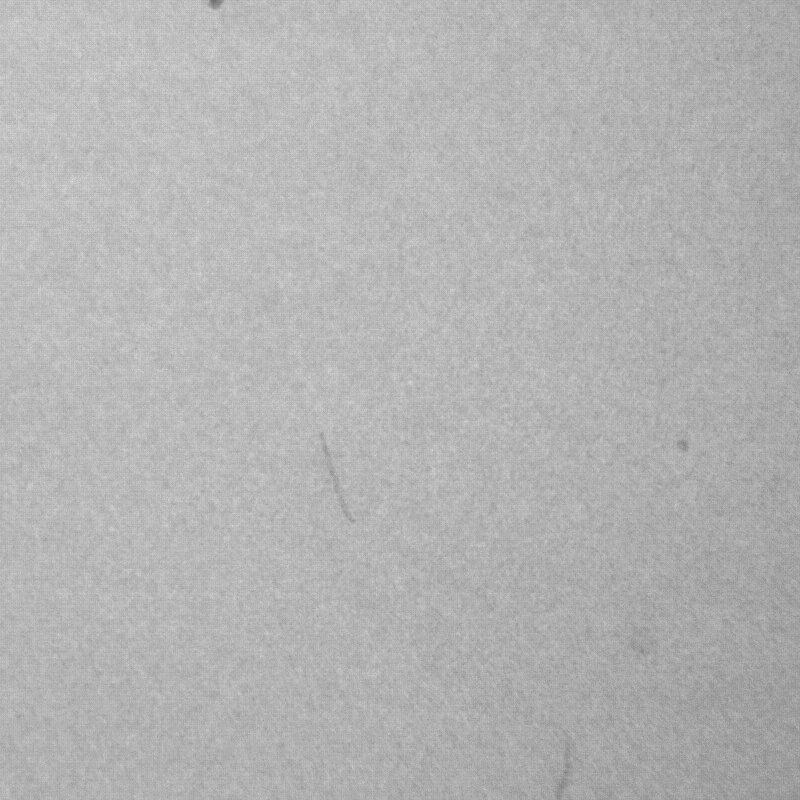defect: (314, 429, 360, 524), (559, 737, 574, 796), (677, 433, 693, 460), (200, 1, 231, 14)
